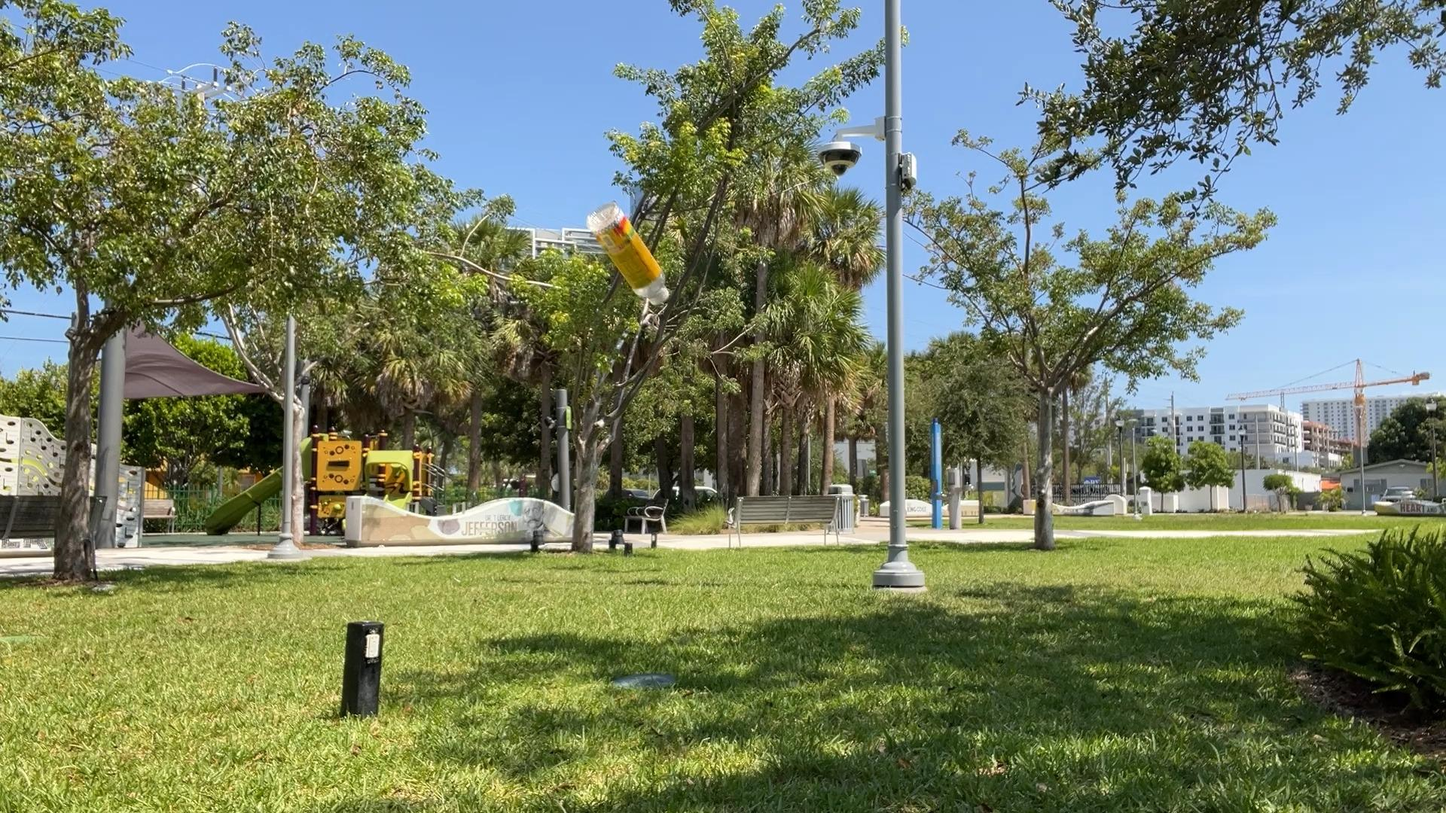Trash: (565, 189, 695, 323)
